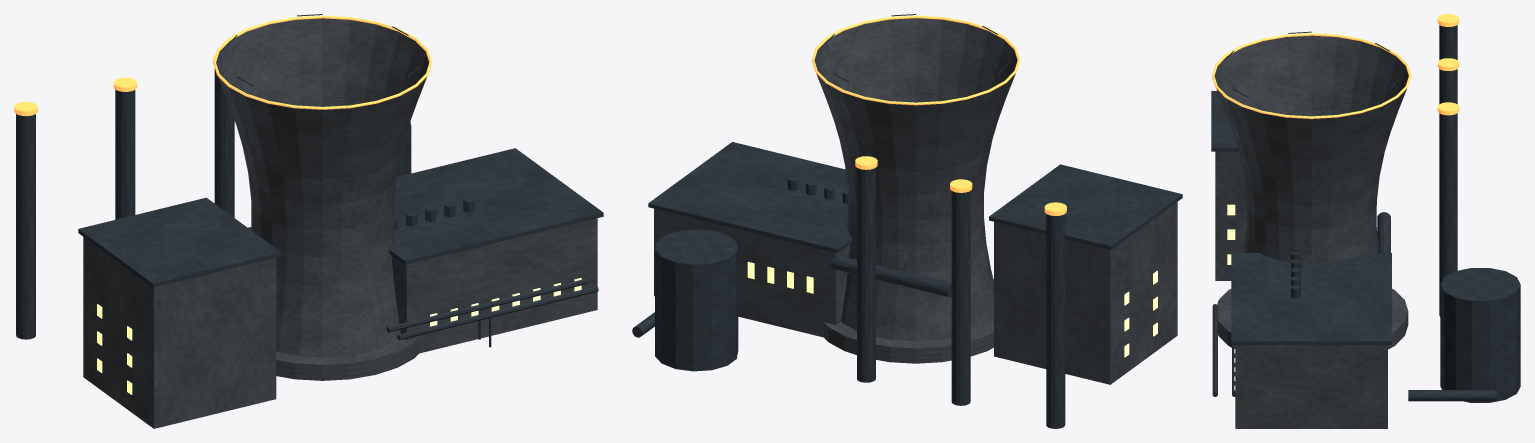
The model's file is geothermal-plant-lod1.glb.
3 views of the same model, side by side, from view 1: azimuth 30°, elevation 25°; view 2: azimuth 150°, elevation 25°; view 3: azimuth 270°, elevation 25° (orthographic). The views are drawn at different scales.
Visible parts, largest first — view 1: CinematicBatch_concrete, CinematicBatch_steel, CinematicBatch_amber, CinematicBatch_window; view 2: CinematicBatch_concrete, CinematicBatch_steel, CinematicBatch_amber, CinematicBatch_window; view 3: CinematicBatch_concrete, CinematicBatch_steel, CinematicBatch_amber, CinematicBatch_window.
Boxes of the visible parts, x1,y1,x2,y2 form: CinematicBatch_concrete: (83, 18, 597, 428); CinematicBatch_steel: (16, 14, 603, 347); CinematicBatch_amber: (14, 15, 432, 116); CinematicBatch_window: (97, 278, 581, 394); CinematicBatch_concrete: (654, 18, 1177, 384); CinematicBatch_steel: (632, 14, 1182, 428); CinematicBatch_amber: (811, 15, 1066, 215); CinematicBatch_window: (747, 262, 1157, 357); CinematicBatch_concrete: (1214, 35, 1408, 428); CinematicBatch_steel: (1211, 25, 1520, 402); CinematicBatch_amber: (1212, 14, 1459, 118); CinematicBatch_window: (1227, 204, 1235, 403).
Size of the model in its own units: 61.32 by 35.07 by 38.5.
Materials: 4 (2 with a texture image).
